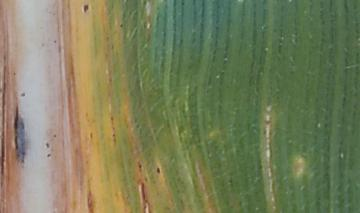tarspot: (14, 105, 28, 164), (81, 3, 90, 13), (18, 89, 27, 98), (43, 141, 51, 148), (155, 165, 161, 174), (45, 152, 52, 158), (52, 132, 58, 138), (118, 22, 124, 28), (138, 161, 142, 169), (52, 38, 57, 44)
